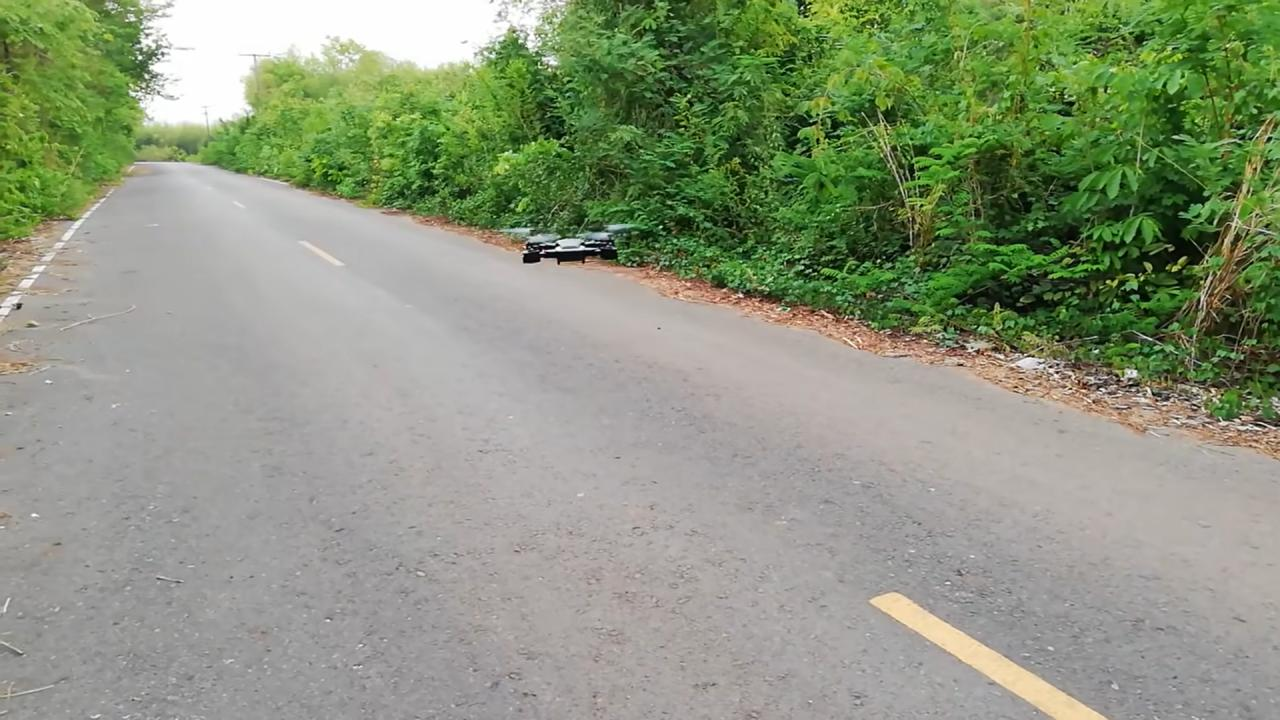Drone: (488, 212, 664, 277)
